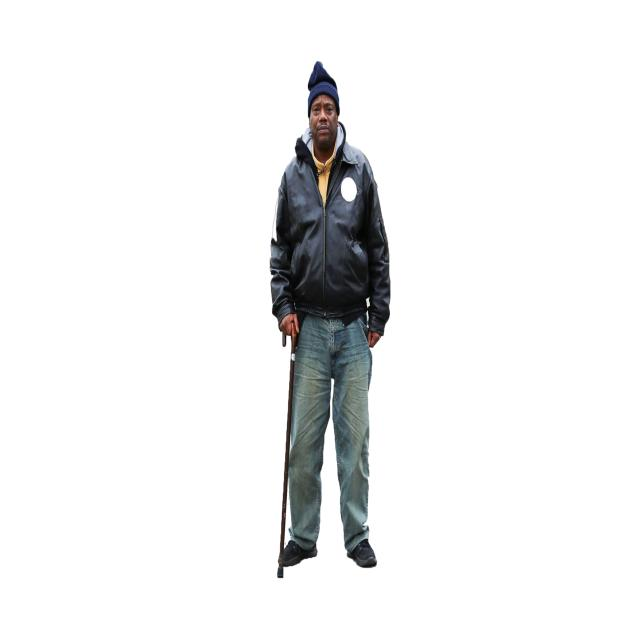jovem: (268, 61, 398, 586)
